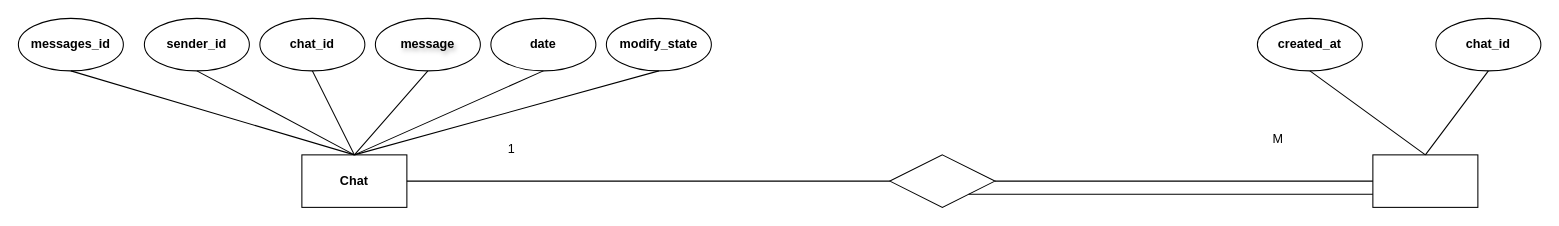
Some shapes in this 1559 by 226 pixel diagram are drawn without their labels. The centre of each missing label's shape, as x and y in pixels:
includes: pixel 942 180
Messages: pixel 1425 180
